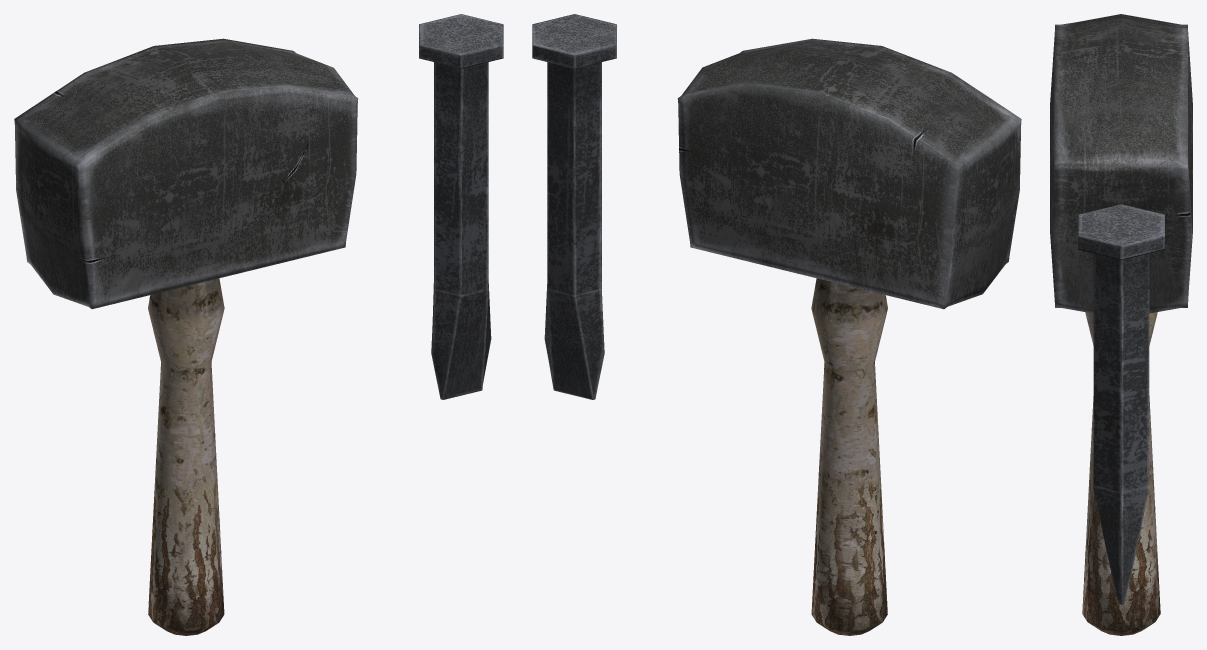
File: hammer_chisel.001.fbx
3 renders of one model, left to right at view 1: azimuth 30°, elevation 25°; view 2: azimuth 150°, elevation 25°; view 3: azimuth 270°, elevation 25°, orthographic. The views are drawn at different scales.
Visible parts, largest first — view 1: hammer_mesh, Cylinder; view 2: hammer_mesh, Cylinder; view 3: hammer_mesh, Cylinder.
Part boxes in pixels (bbox=[...]): hammer_mesh: bbox=[14, 38, 358, 635]; Cylinder: bbox=[419, 14, 503, 399]; hammer_mesh: bbox=[677, 38, 1021, 635]; Cylinder: bbox=[532, 14, 616, 399]; hammer_mesh: bbox=[1050, 14, 1192, 635]; Cylinder: bbox=[1078, 204, 1164, 604].
Size of the model in its own units: 30.47 by 35.86 by 7.89.
